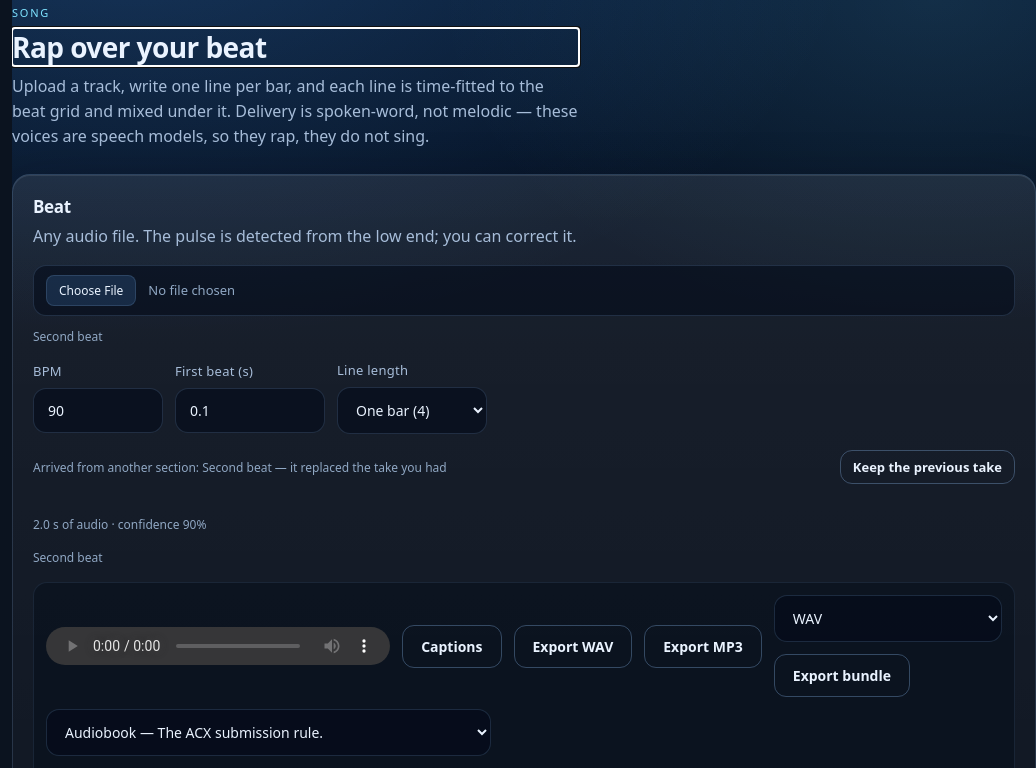
Test case: Song hand-off › takes a second beat sent while it is open, and hands the first back
Later steps or results of the test are not shown.
Expected: the text "Second beat" is shown 2 times, [33,328,102,345]; [33,549,102,566]
Expected: the text "Arrived from another section" is shown once, [33,459,447,476]
Click the button "Keep the previous take": coordinates (927, 467) [840,450,1015,484]
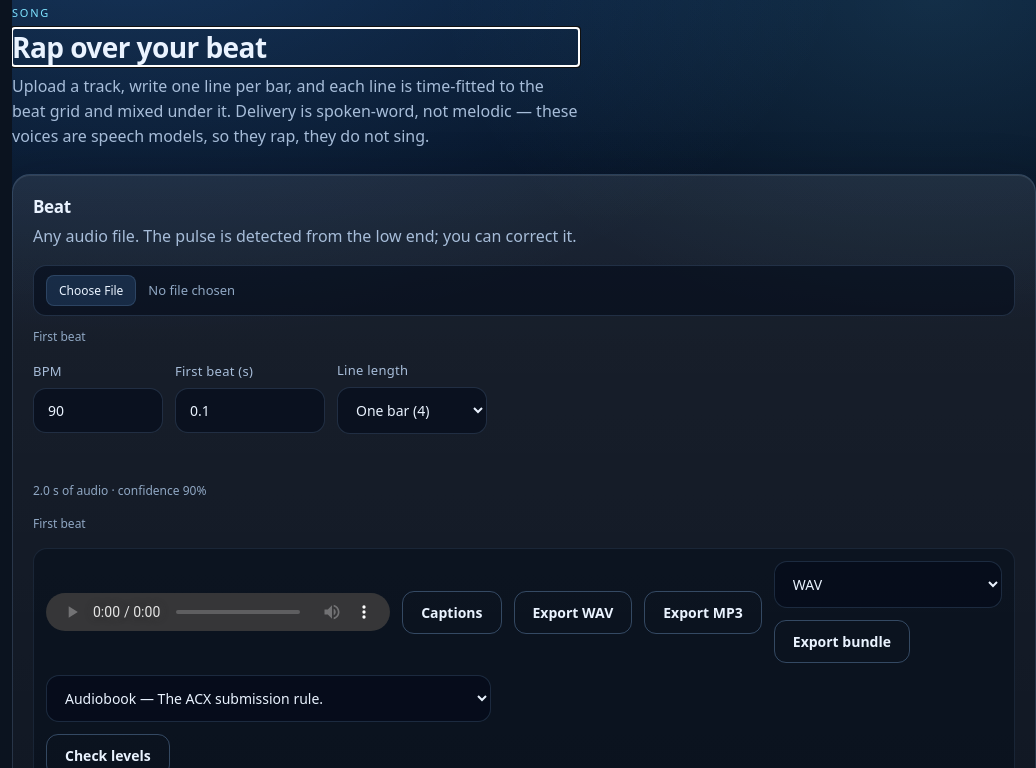
Expected: the text "First beat" is shown 2 times, [33,328,86,345]; [33,515,86,532]
Expected: the text "Arrived from another section" is gone
